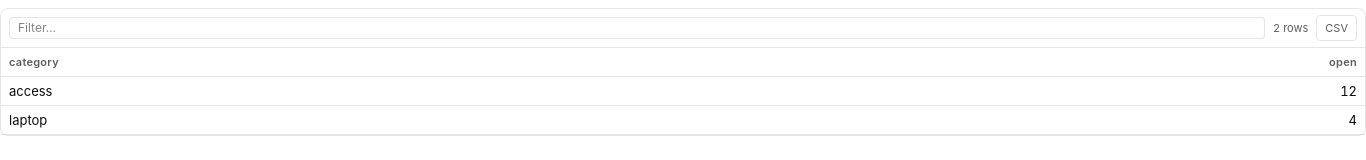
Scenario: TableView › filters across every column, because the question is usually which one
Type "lap" into the search field named "Filter rows" at (637, 28), box [9,17,1265,39]
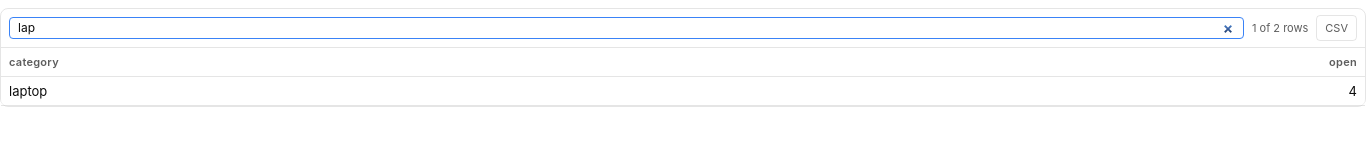
Expected: the text with test id "table-count" reads "1 of 2 rows", [1252,21,1308,35]
